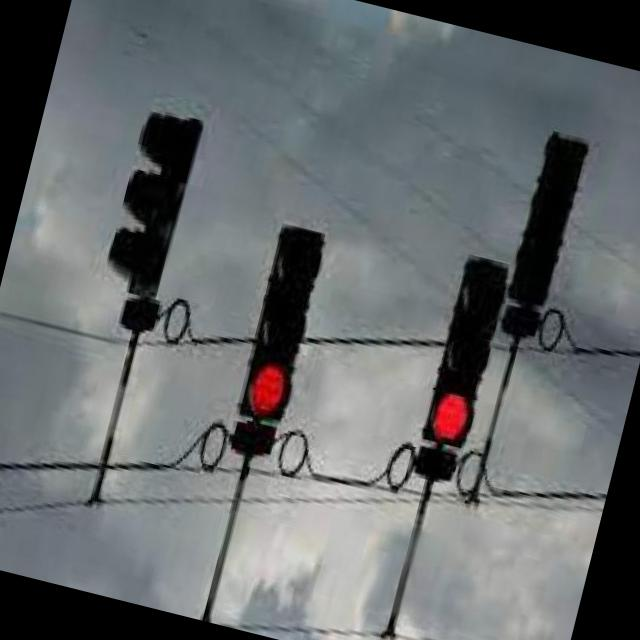red-lights: (419, 374, 481, 446), (238, 348, 296, 422)
